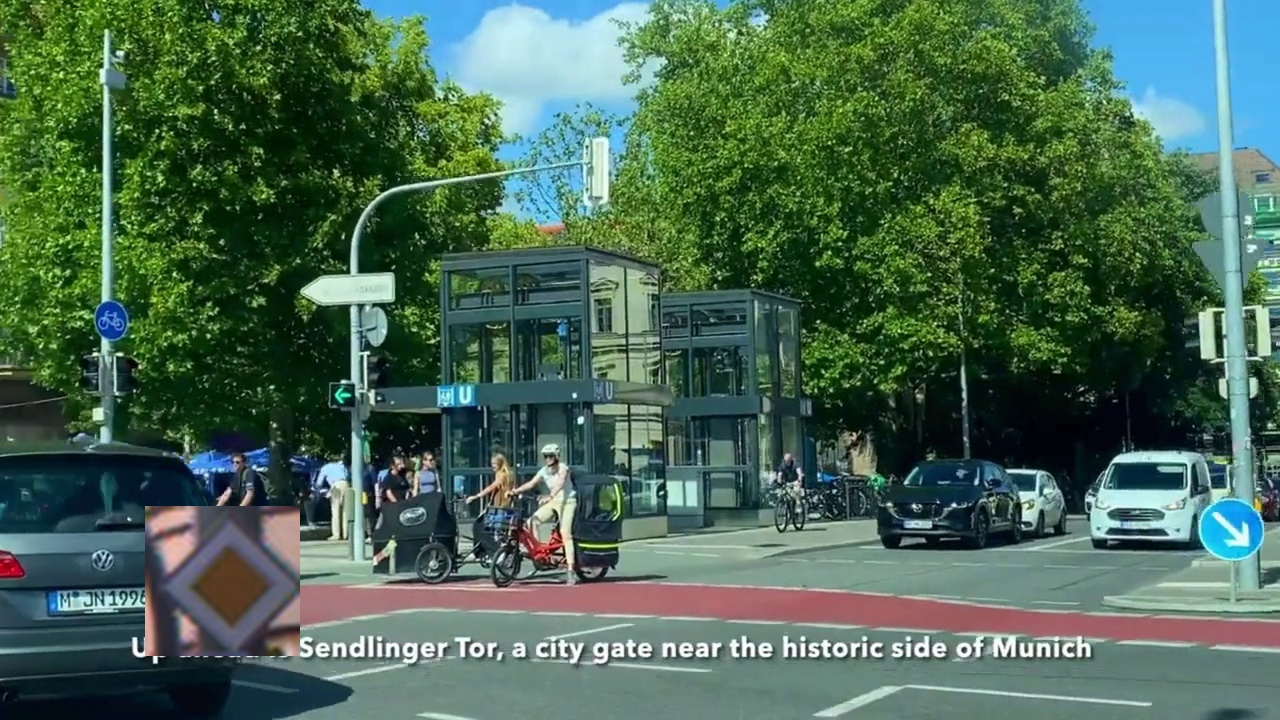Priority road: (145, 506, 300, 656)
